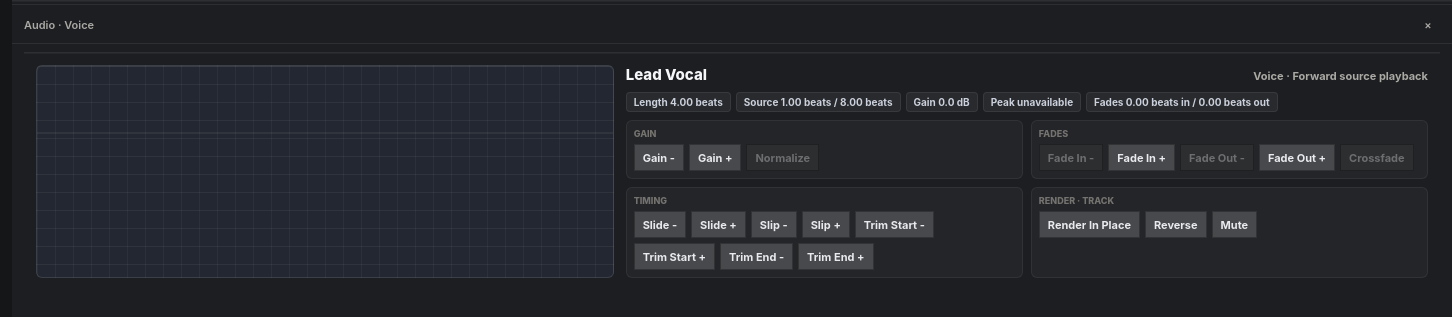
AudioClipEditorPanel render errors › shows an inline render error when native mixdown fails
Click the button "Render In Place".
click(1089, 224)  # box [1039,211,1140,238]
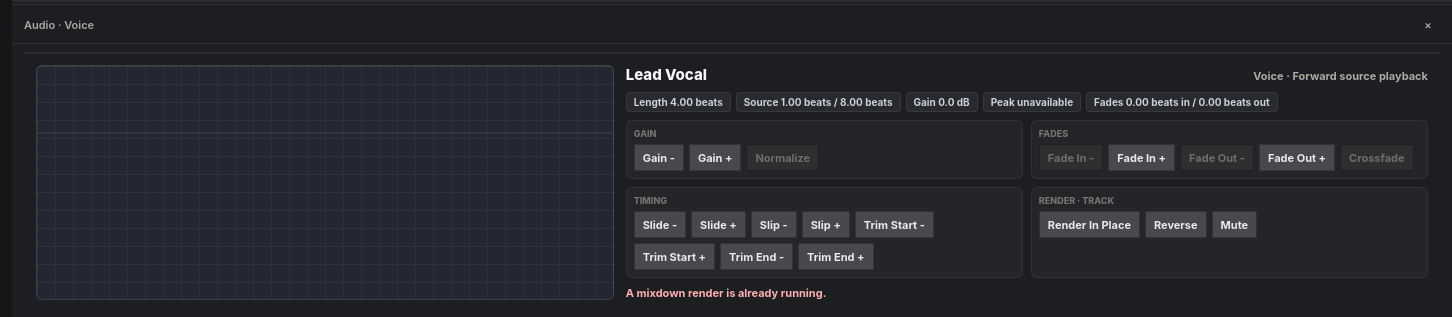
Result: the text "A mixdown render is already running." is shown at [626,286,826,300]
